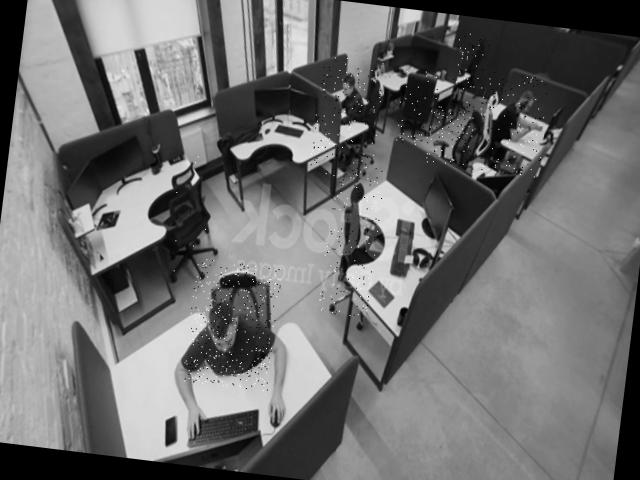empty chair: (318, 163, 384, 318), (150, 148, 220, 290), (424, 102, 488, 169), (446, 32, 491, 122), (394, 67, 440, 147)
occupiedchair: (182, 258, 282, 392), (308, 56, 385, 183), (468, 69, 550, 178)
